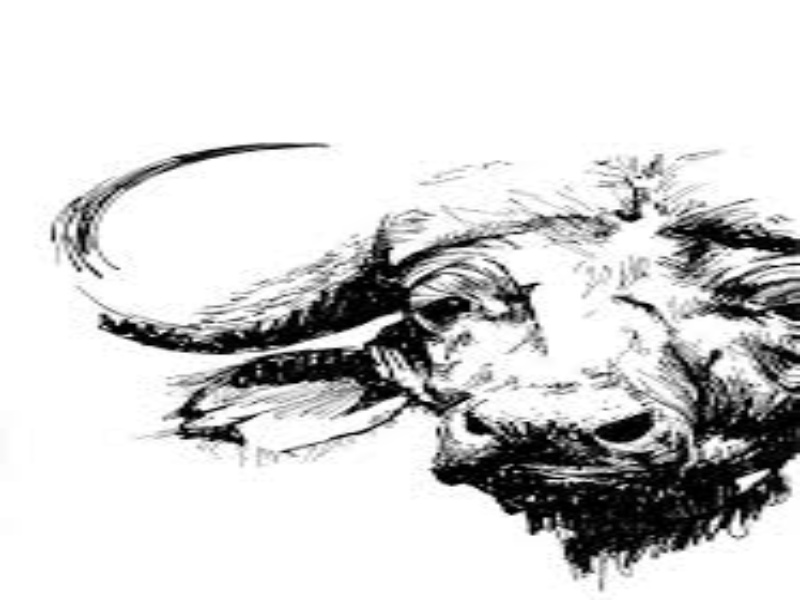buffalo: (45, 129, 793, 563)
